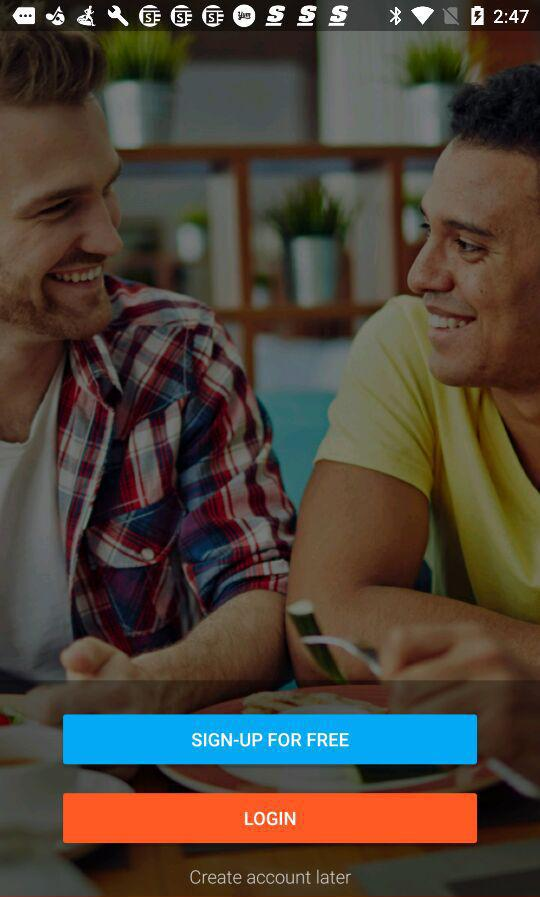BackgroundImage: (1, 32, 540, 897)
Text: (190, 868, 352, 886)
TextButton: (63, 714, 478, 765), (63, 793, 478, 844)
UpperTaskBar: (1, 1, 540, 32)
